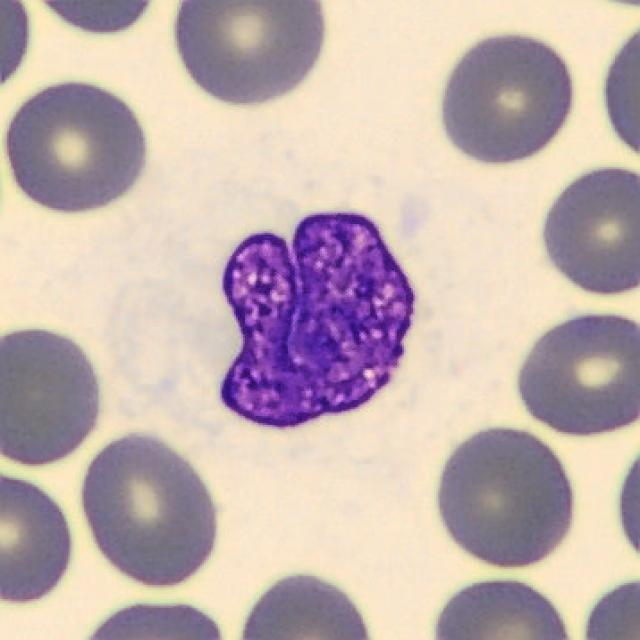Restos celulares: (218, 213, 417, 430)
